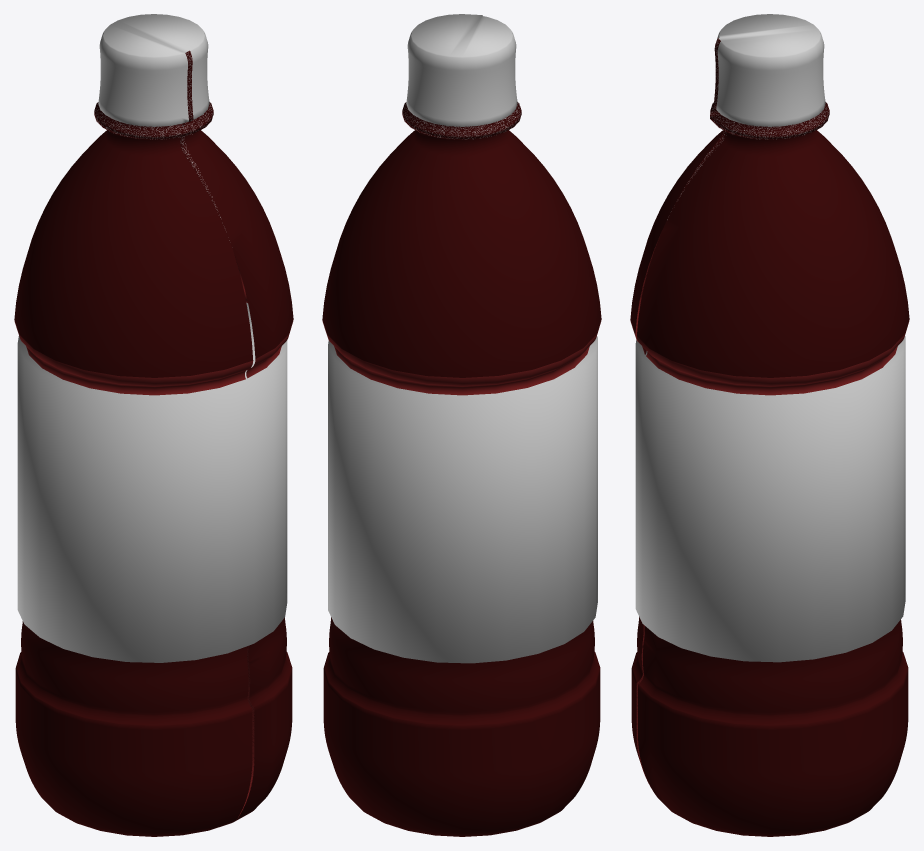
3 renders of one model, left to right at view 1: azimuth 30°, elevation 25°; view 2: azimuth 150°, elevation 25°; view 3: azimuth 270°, elevation 25°, orthographic.
Parts seen in each view (by area): view 1: mesh3_mesh3-geometry, mesh1_mesh1-geometry, mesh2_mesh2-geometry; view 2: mesh3_mesh3-geometry, mesh1_mesh1-geometry, mesh2_mesh2-geometry; view 3: mesh3_mesh3-geometry, mesh1_mesh1-geometry, mesh2_mesh2-geometry.
Part boxes in pixels (box(x1,y1,x2,y2)): mesh3_mesh3-geometry: box(17, 302, 287, 662); mesh1_mesh1-geometry: box(14, 14, 293, 395); mesh2_mesh2-geometry: box(15, 617, 292, 836); mesh3_mesh3-geometry: box(328, 336, 597, 663); mesh1_mesh1-geometry: box(322, 14, 601, 395); mesh2_mesh2-geometry: box(323, 617, 600, 836); mesh3_mesh3-geometry: box(635, 336, 905, 662); mesh1_mesh1-geometry: box(630, 14, 909, 395); mesh2_mesh2-geometry: box(631, 616, 908, 836).
Bounding box in the file's own units: 0.2299 × 0.7015 × 0.2299.
